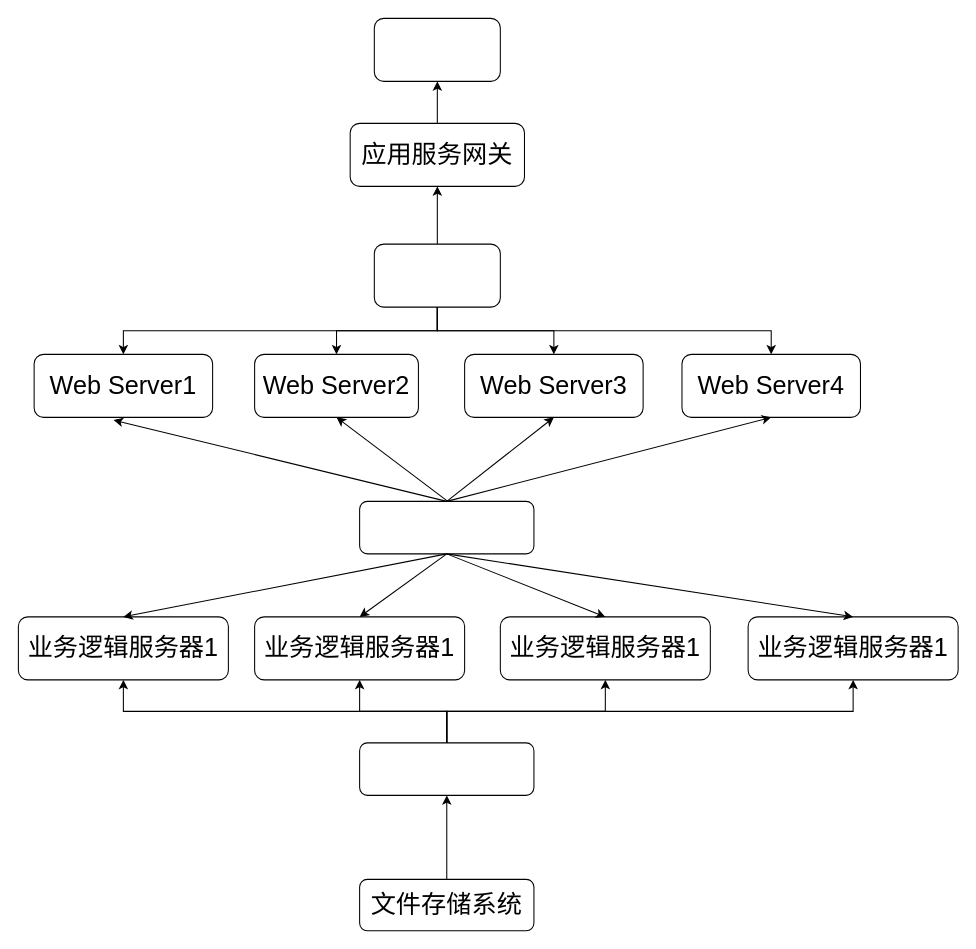
The diagram is 976 pixels wide and 949 high, and some of its shapes have lost their labels. Each missing label, with the centre of its shape:
"应用服务器" goes at [446,527].
"数据库集群" goes at [446,768].
"用户界面" goes at [436,49].
"负载均衡" goes at [436,275].
